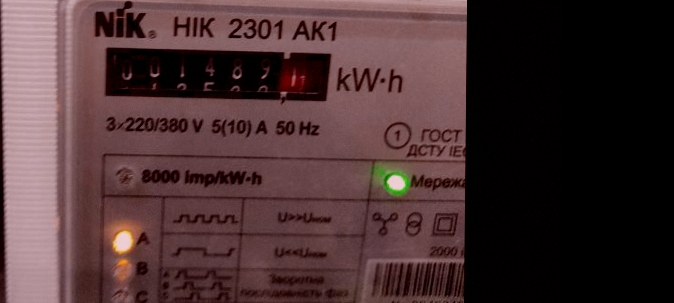0: (145, 52, 161, 77), (118, 56, 133, 81)
1: (174, 51, 188, 81), (286, 59, 298, 89)
4: (201, 53, 217, 79)
8: (227, 53, 244, 80)
9: (256, 55, 271, 80)
screen: (89, 36, 345, 114)
